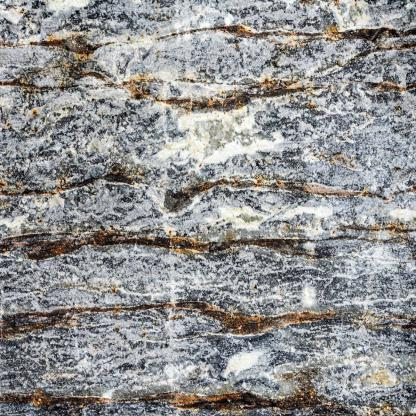Igneous_Granite: (6, 8, 414, 416)
